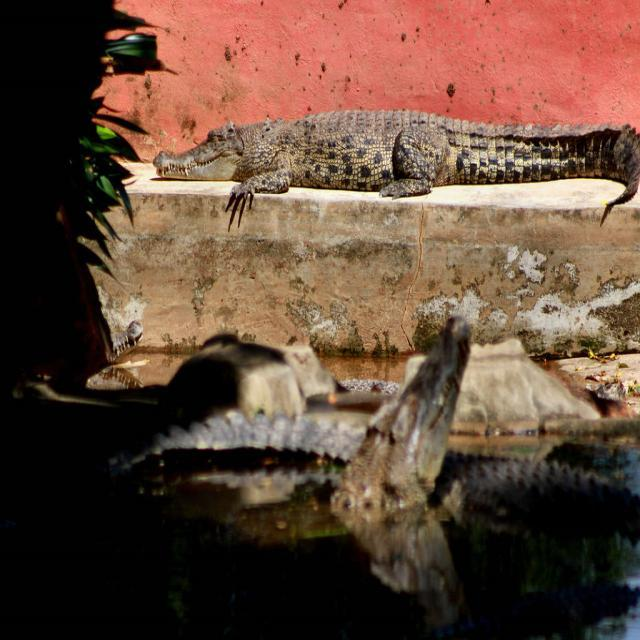crocodile: (142, 94, 639, 228)
